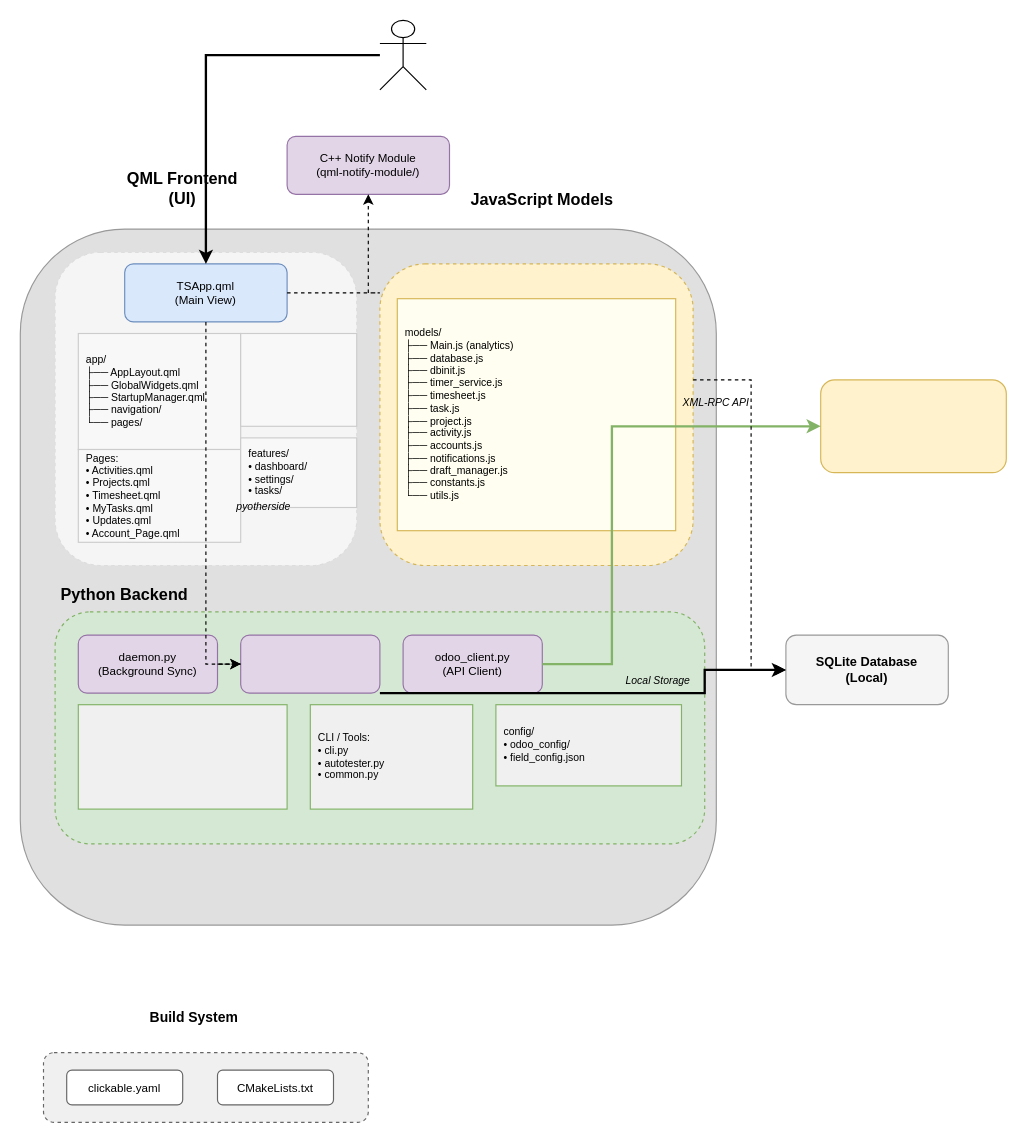
This 1027x1143 diagram has some shape labels left out. Here are the shapes that lost their labels. From the top down, the box of each, then its label:
(379, 19, 426, 90): User
(240, 332, 357, 426): Components (60+) • Timer widgets • Forms • Selectors • Charts
(820, 379, 1006, 473): Odoo Server (External)
(19, 228, 716, 925): Ubuntu Touch Device
(240, 634, 380, 693): backend.py (Main Logic)
(77, 704, 287, 809): Sync Modules: • sync_from_odoo.py • sync_to_odoo.py • bus.py (events)
